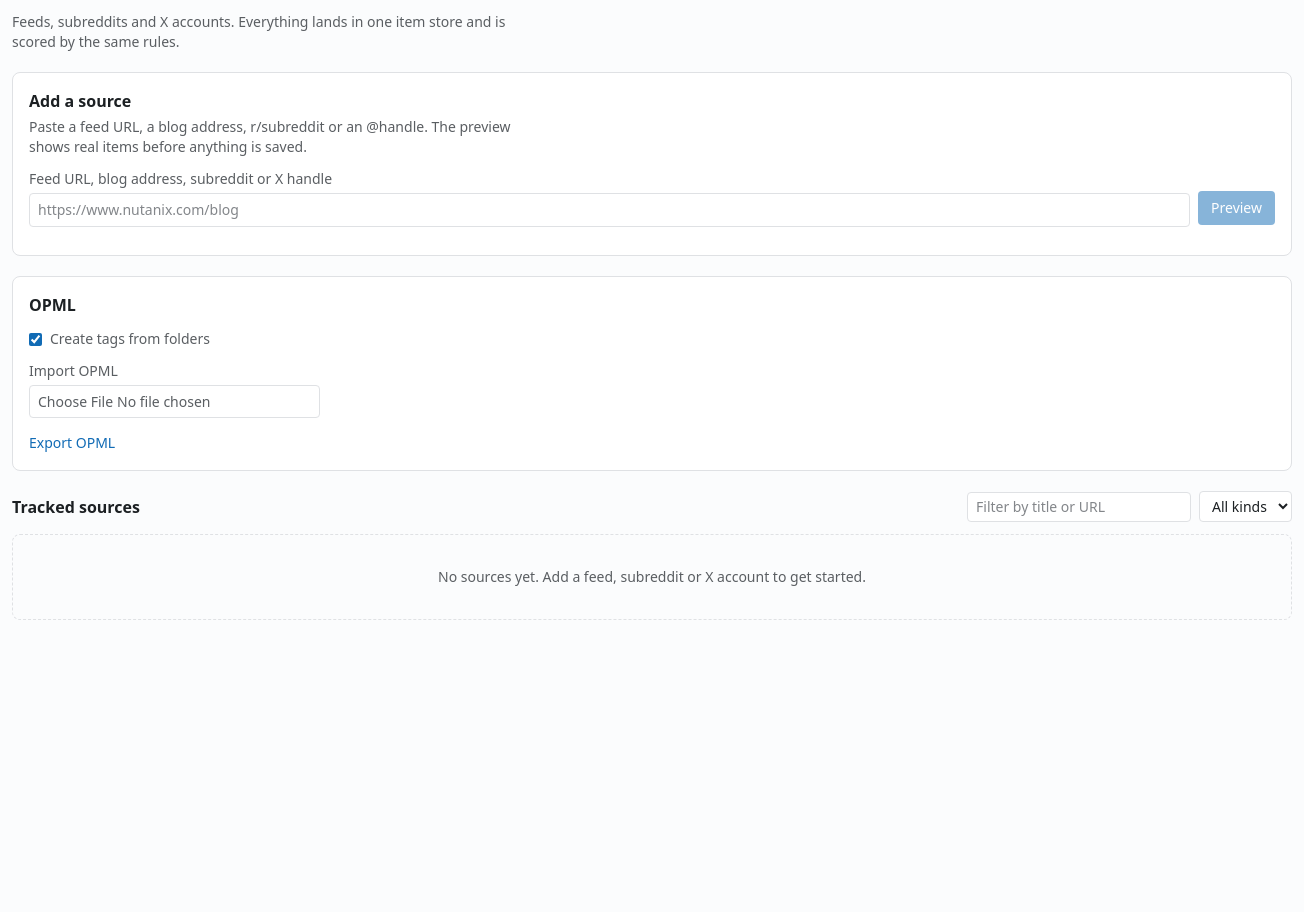
Scenario: Sources › refuses to add a candidate that is already tracked
The image size is (1304, 912).
Type "x.example" into the field labelled "Feed URL, blog address, subreddit or X handle".
click(610, 210); type("x.example")  # box [29, 193, 1190, 227]
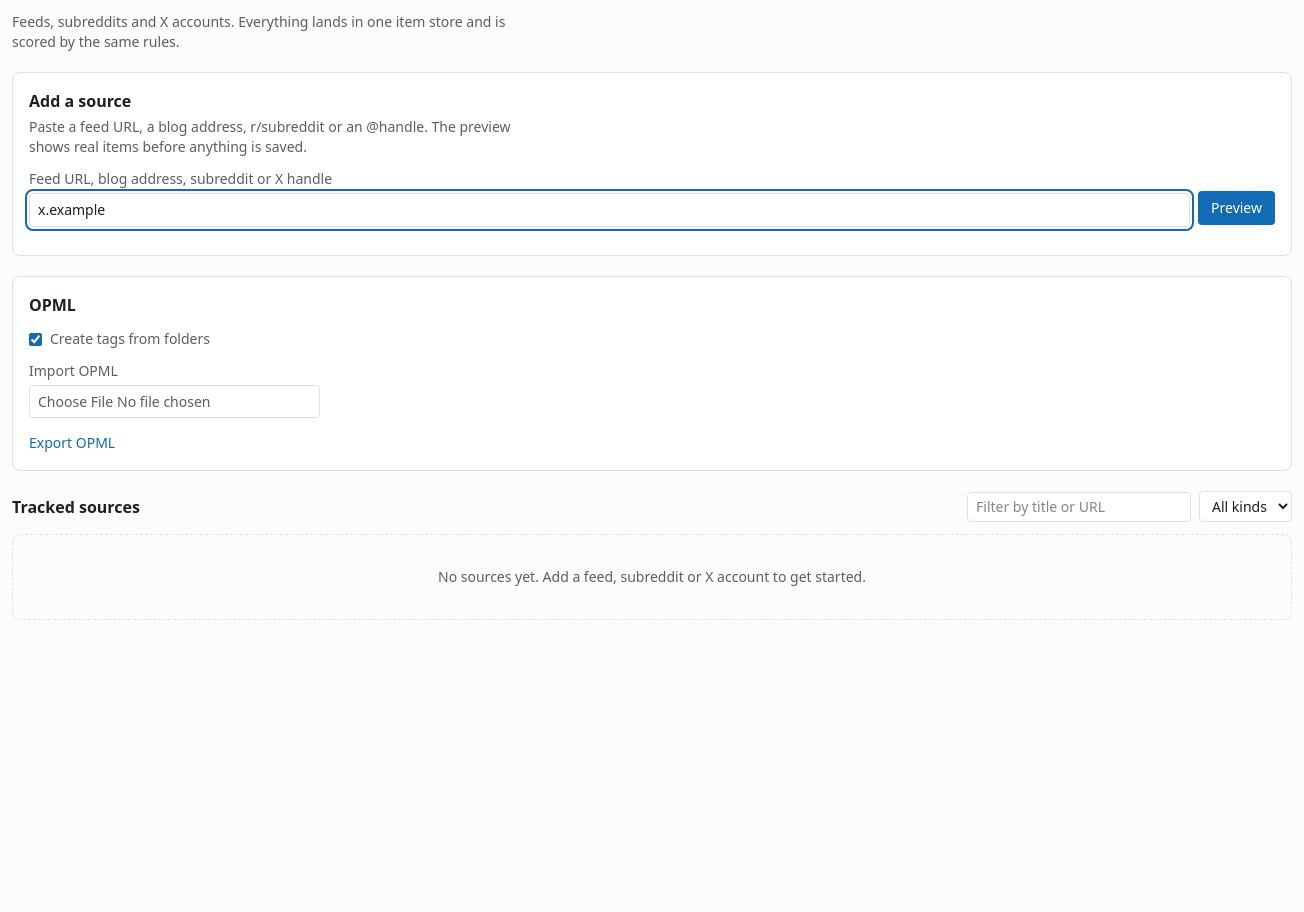
Click the button "Preview".
click(1237, 208)  # box [1198, 191, 1275, 225]
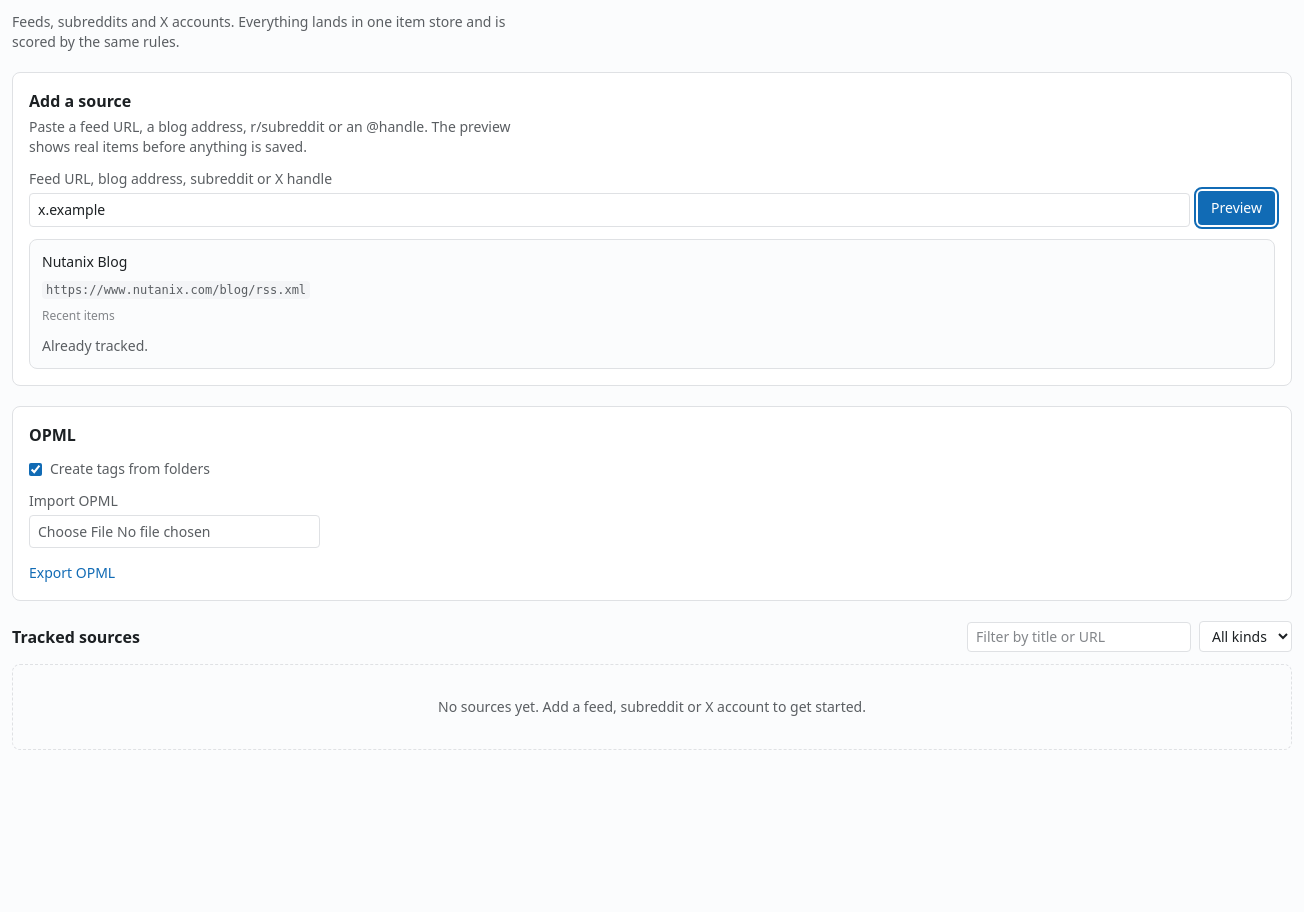
Now the text "Already tracked." is shown, box [42, 336, 148, 355]
